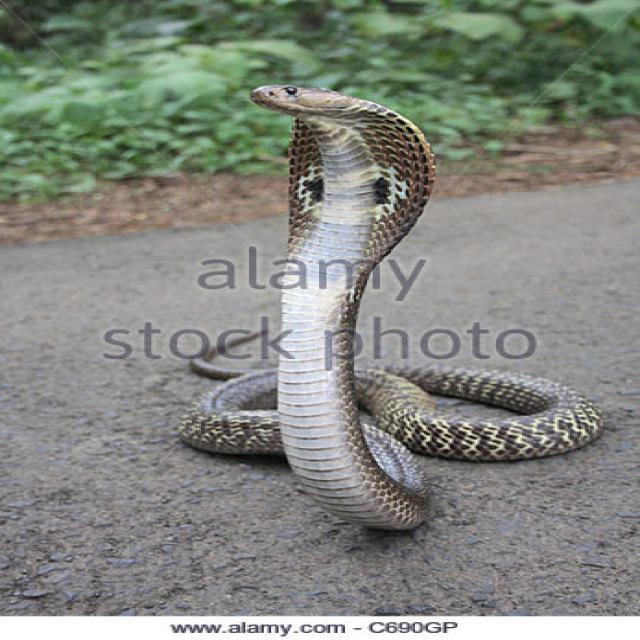Snake: (172, 78, 604, 540)
